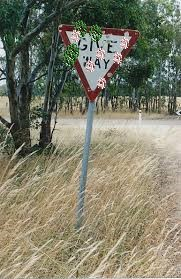giveway: (56, 22, 140, 100), (71, 30, 120, 91)
